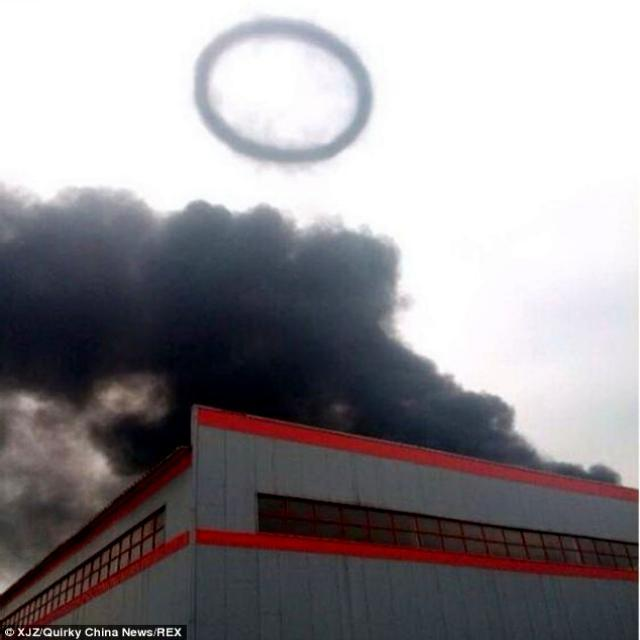Smoke: (0, 190, 540, 475)
